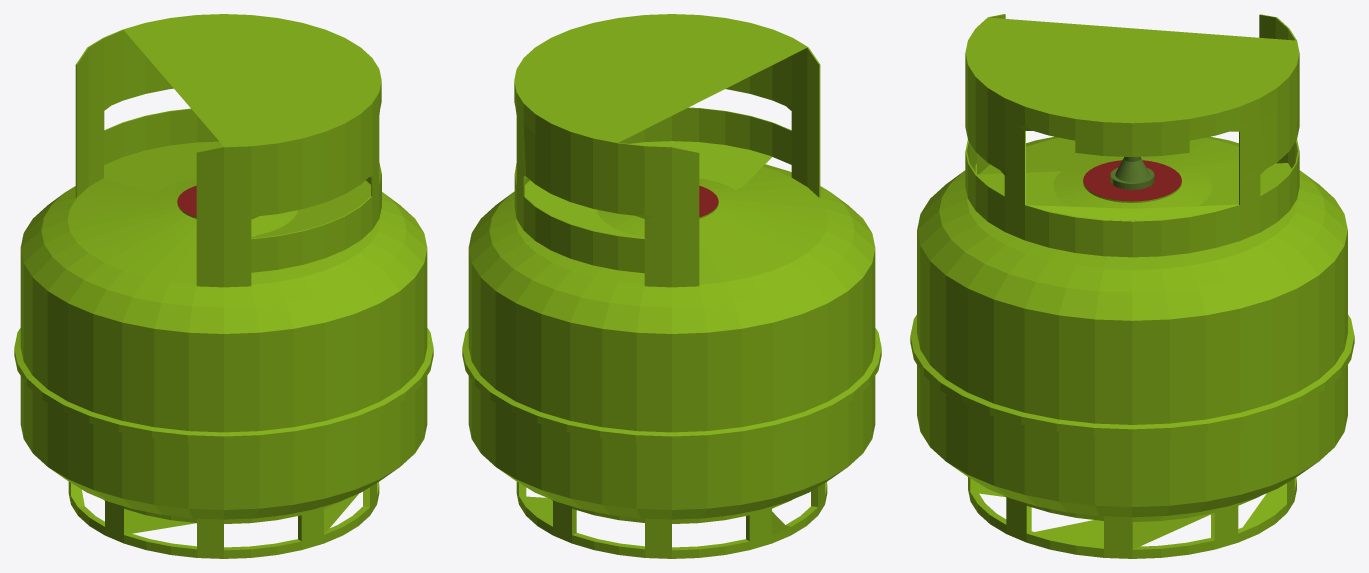
Rendered from gas lpg.fbx.
3 renders of one model, left to right at view 1: azimuth 30°, elevation 25°; view 2: azimuth 150°, elevation 25°; view 3: azimuth 270°, elevation 25°, orthographic. The views are drawn at different scales.
Visible parts, largest first — view 1: Cylinder; view 2: Cylinder; view 3: Cylinder.
Boxes of the visible parts, <box> form: Cylinder: <box>14,14,433,558</box>; Cylinder: <box>462,14,881,558</box>; Cylinder: <box>910,14,1354,558</box>.
Size of the model in its own units: 270 by 293 by 270.
